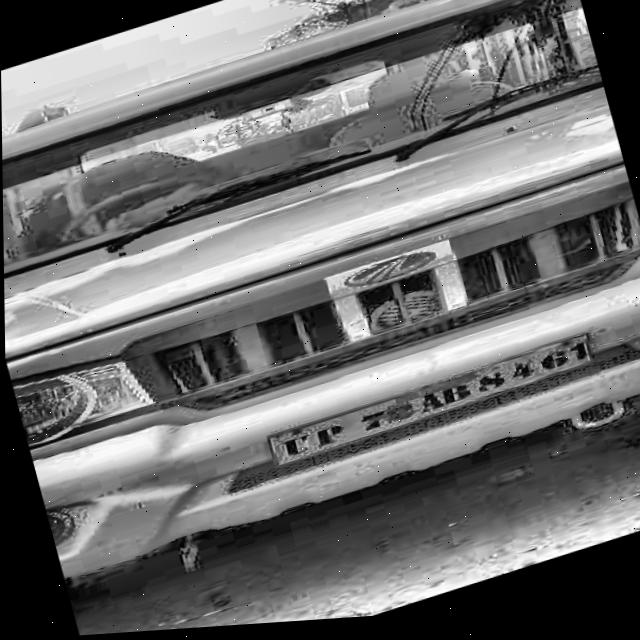light_vehicle: (0, 0, 640, 592)
